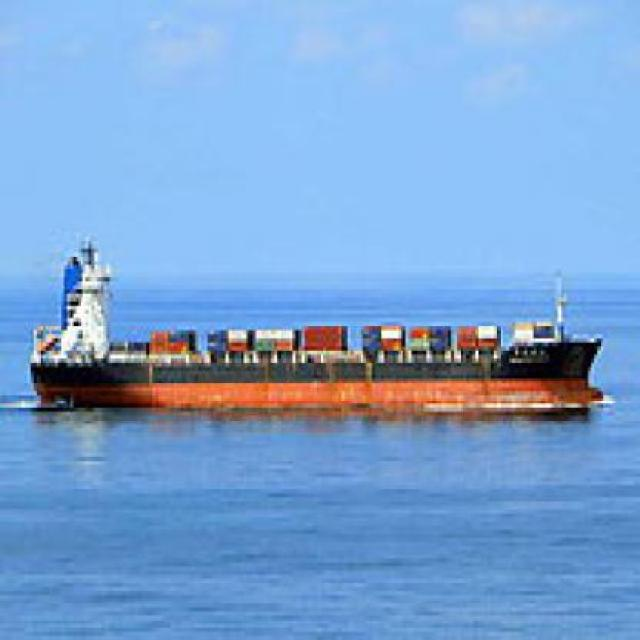container: (25, 221, 608, 426)
